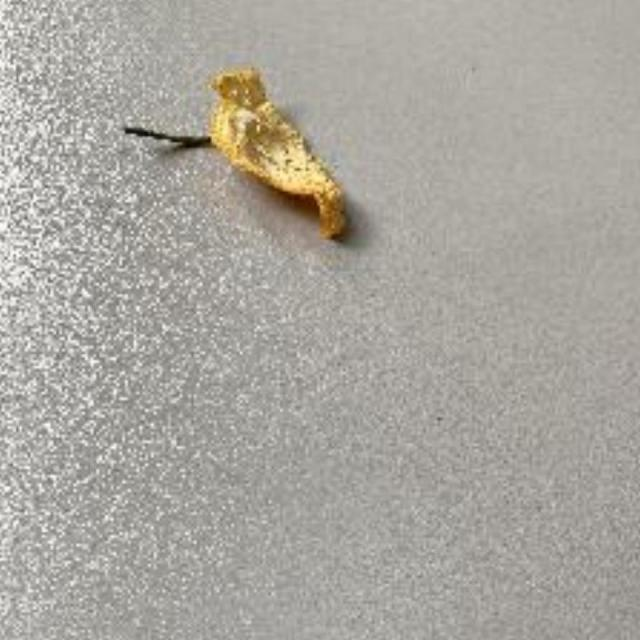orange peel: (202, 62, 356, 248)
